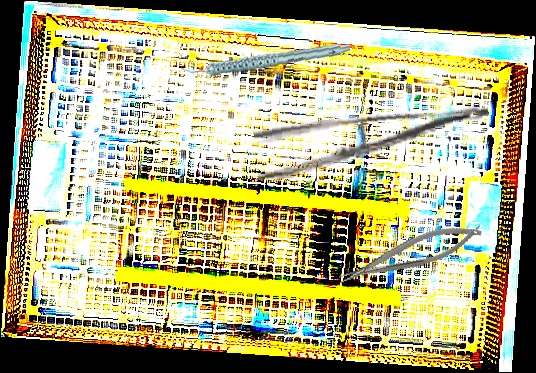Dressing Forceps: (252, 102, 494, 182)
Handpiece: (180, 27, 351, 89)
Needle Holder: (333, 216, 487, 291)
